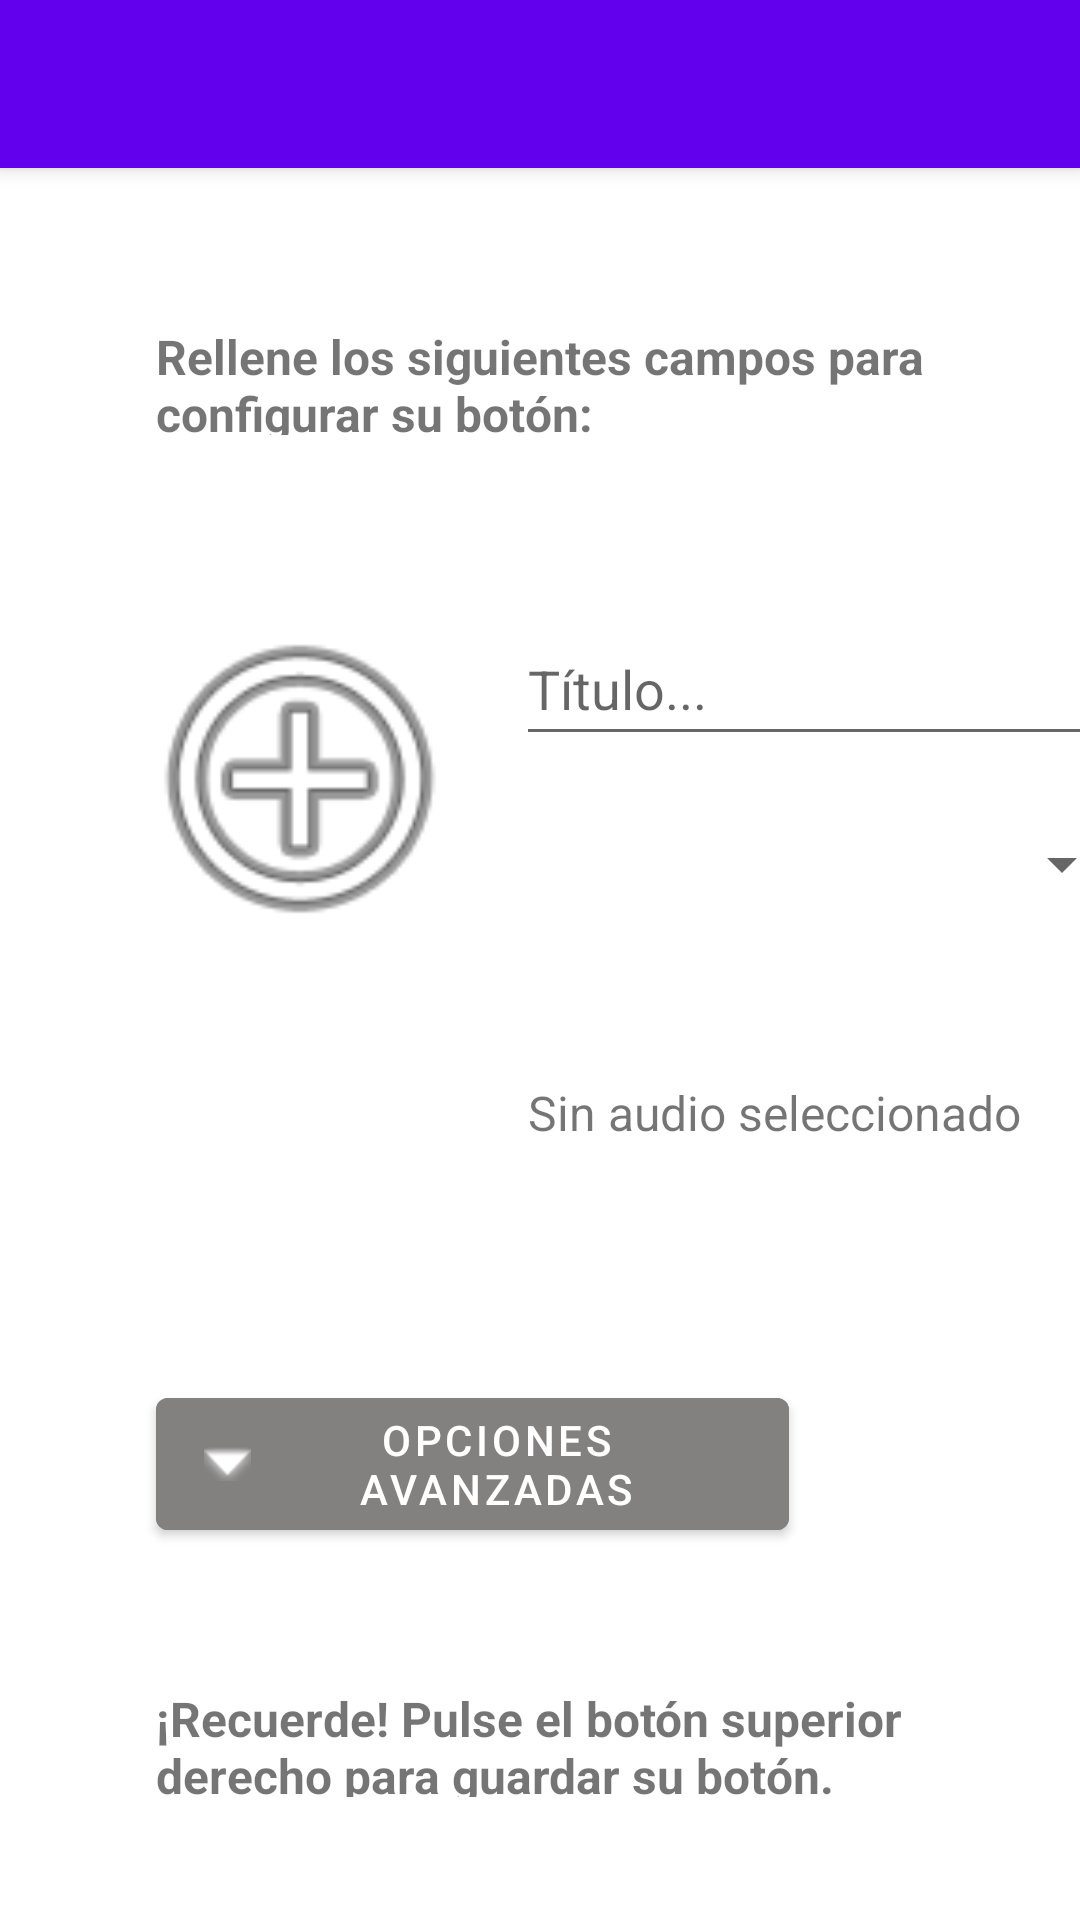

Where to tap for icons on this 1080*1920 app screen, as (x,y):
add: (300,779)
